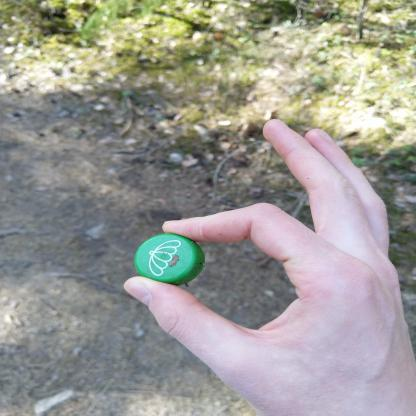plastik: (134, 233, 208, 289)
